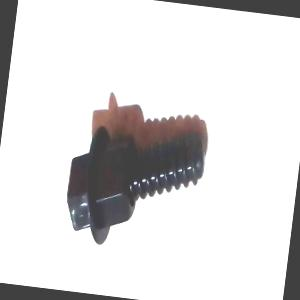parafuso: (61, 122, 206, 254)
